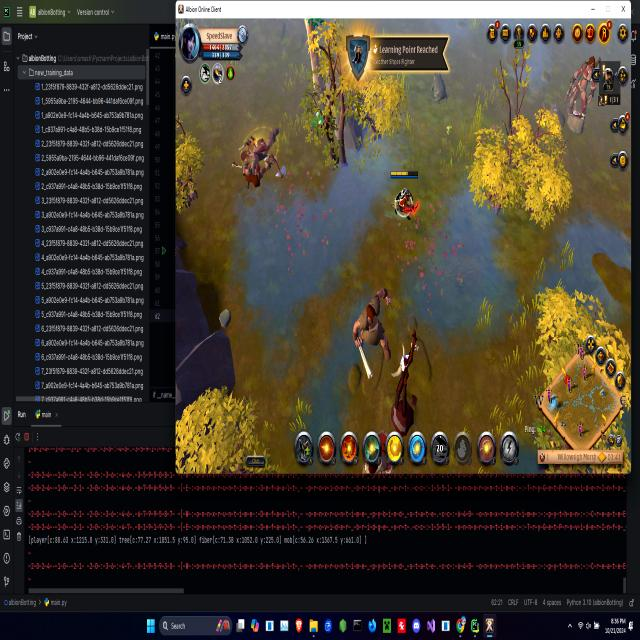ore: (347, 280, 395, 375), (563, 50, 602, 127), (430, 66, 449, 107)
red: (386, 167, 422, 222)
wisp caged: (297, 17, 336, 120)
